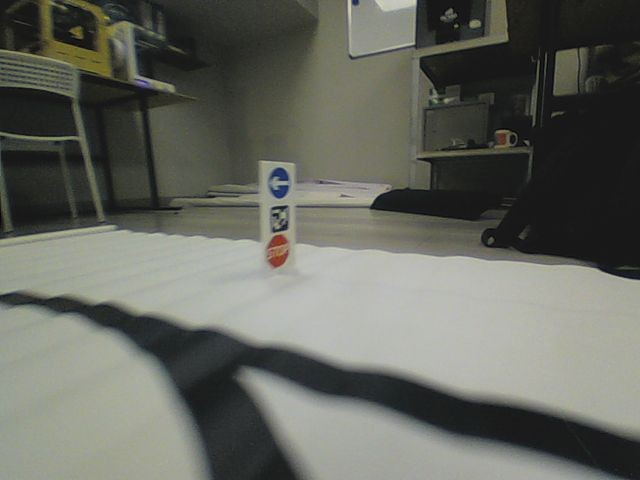Stop: (266, 233, 289, 269)
